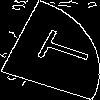T: (25, 25, 96, 72)
